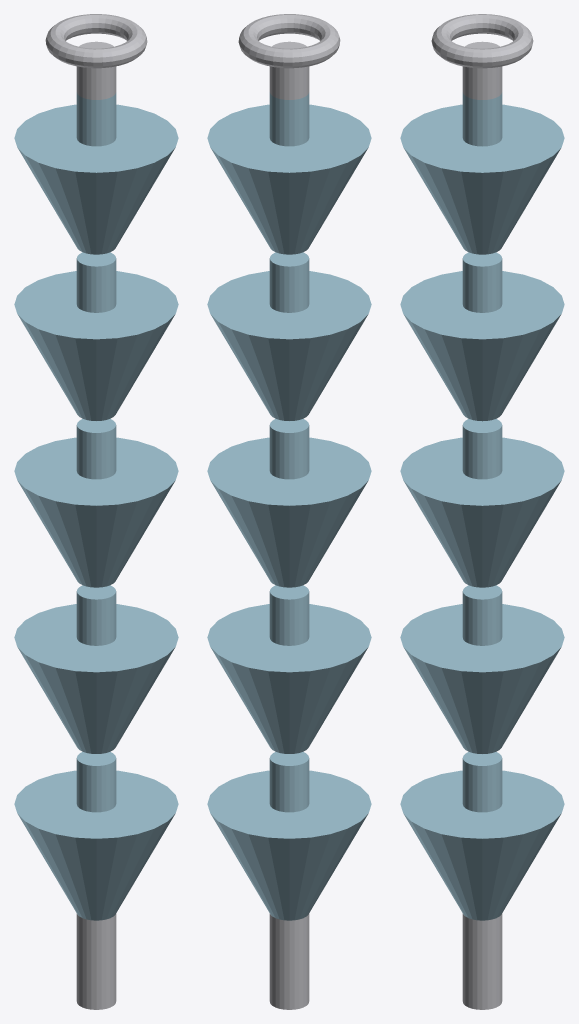
The model's file is Cadena_651mm.fbx.
3 renders of one model, left to right at view 1: azimuth 30°, elevation 25°; view 2: azimuth 150°, elevation 25°; view 3: azimuth 270°, elevation 25°, orthographic.
Parts seen in each view (by area): view 1: Cadena_651mm; view 2: Cadena_651mm; view 3: Cadena_651mm.
Boxes of the visible parts, box(x1,y1,x2,y2) form: Cadena_651mm: box(14, 14, 178, 1009); Cadena_651mm: box(207, 14, 371, 1009); Cadena_651mm: box(400, 14, 564, 1009).
Bounding box in the file's own units: 10 × 65.1 × 10.
